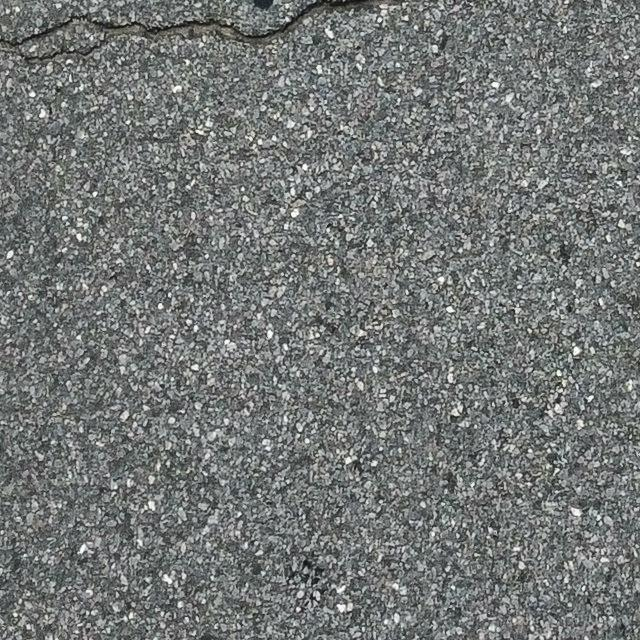TransverseCrack: (1, 1, 376, 63)
